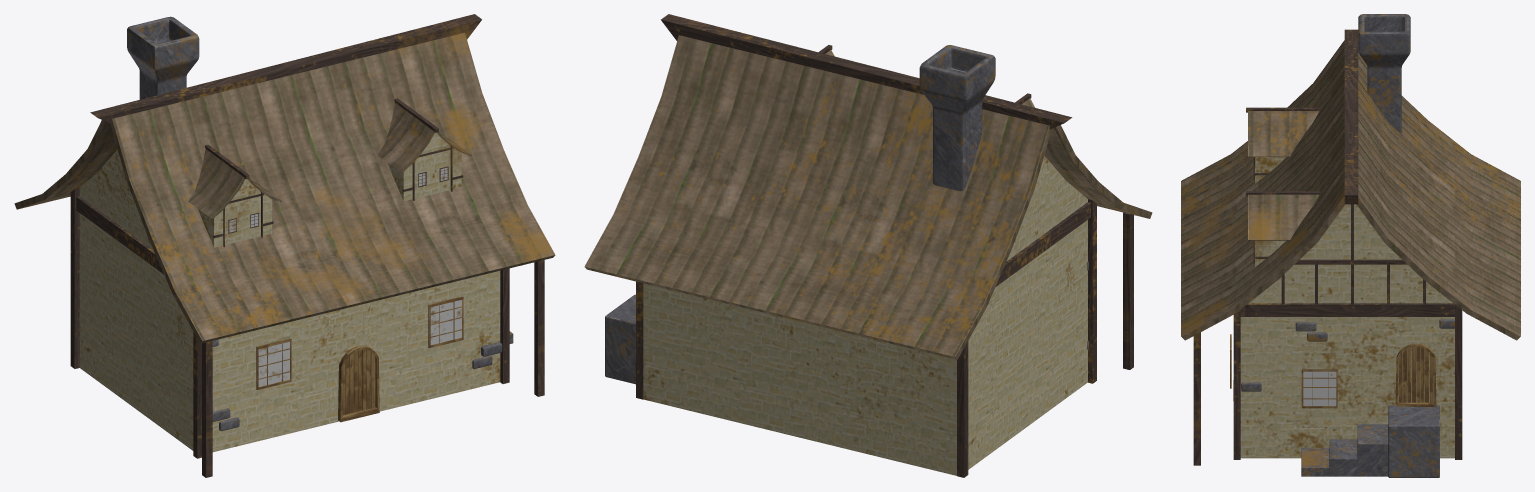
File: medieval_house.glb
3 renders of one model, left to right at view 1: azimuth 30°, elevation 25°; view 2: azimuth 150°, elevation 25°; view 3: azimuth 270°, elevation 25°, orthographic. The views are drawn at different scales.
Visible parts, largest first — view 1: polySurface399; view 2: polySurface399; view 3: polySurface399.
Boxes of the visible parts, box(x1,y1,x2,y2) form: polySurface399: box(14, 14, 555, 477); polySurface399: box(584, 14, 1152, 477); polySurface399: box(1181, 14, 1520, 477).
Size of the model in its own units: 0.3015 by 0.2599 by 0.2498.
Materials: 1 (1 with a texture image).
